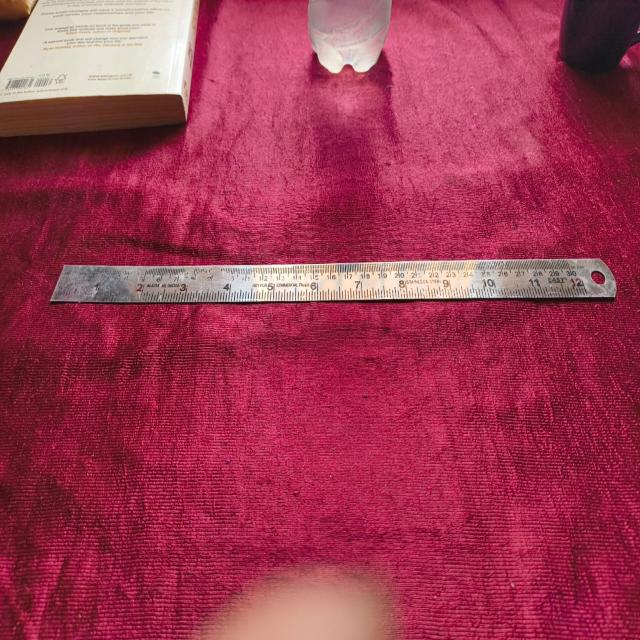Book: (2, 0, 200, 132)
Bottle: (305, 0, 392, 73)
Cup: (559, 0, 639, 73)
scale: (50, 259, 616, 297)
